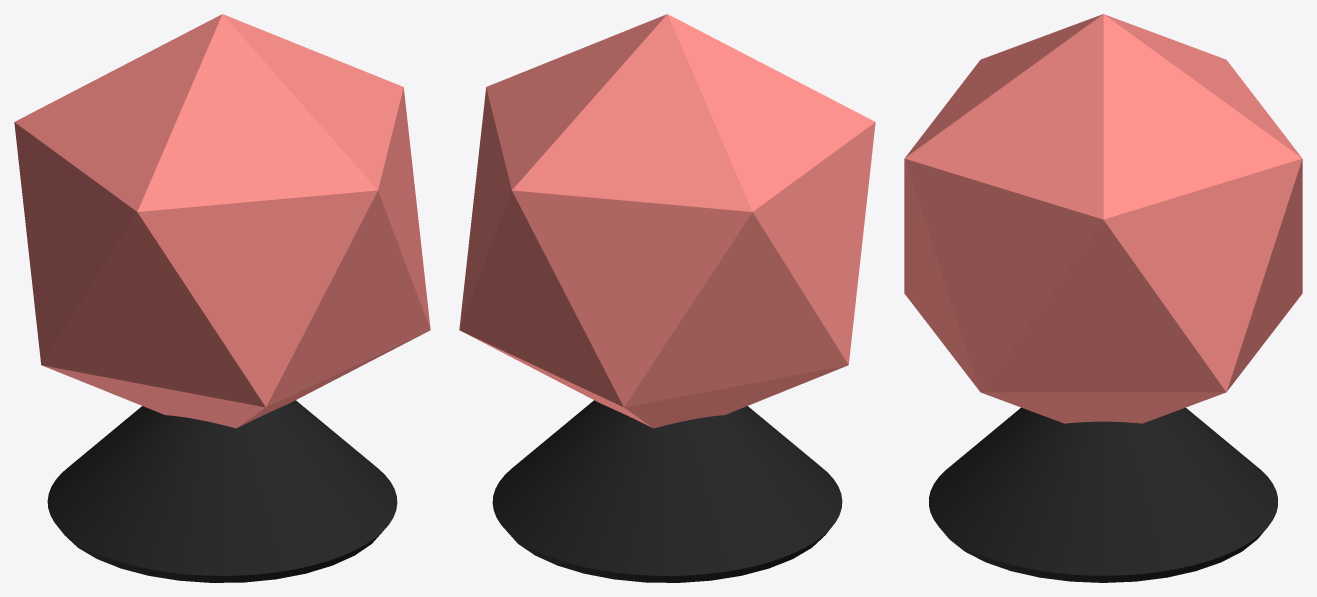
The model's file is capstone_black.glb.
3 views of the same model, side by side, from view 1: azimuth 30°, elevation 25°; view 2: azimuth 150°, elevation 25°; view 3: azimuth 270°, elevation 25° (orthographic).
Visible parts, largest first — view 1: CapstoneBlack, Cylinder.001; view 2: CapstoneBlack, Cylinder.001; view 3: CapstoneBlack, Cylinder.001.
Part boxes in pixels (x1,y1,x2,y2): CapstoneBlack: (14, 14, 430, 428); Cylinder.001: (47, 400, 397, 582); CapstoneBlack: (459, 14, 875, 428); Cylinder.001: (492, 400, 842, 582); CapstoneBlack: (904, 14, 1302, 423); Cylinder.001: (929, 407, 1277, 582).
Bounding box in the file's own units: 0.7155 × 0.9404 × 0.6805.
